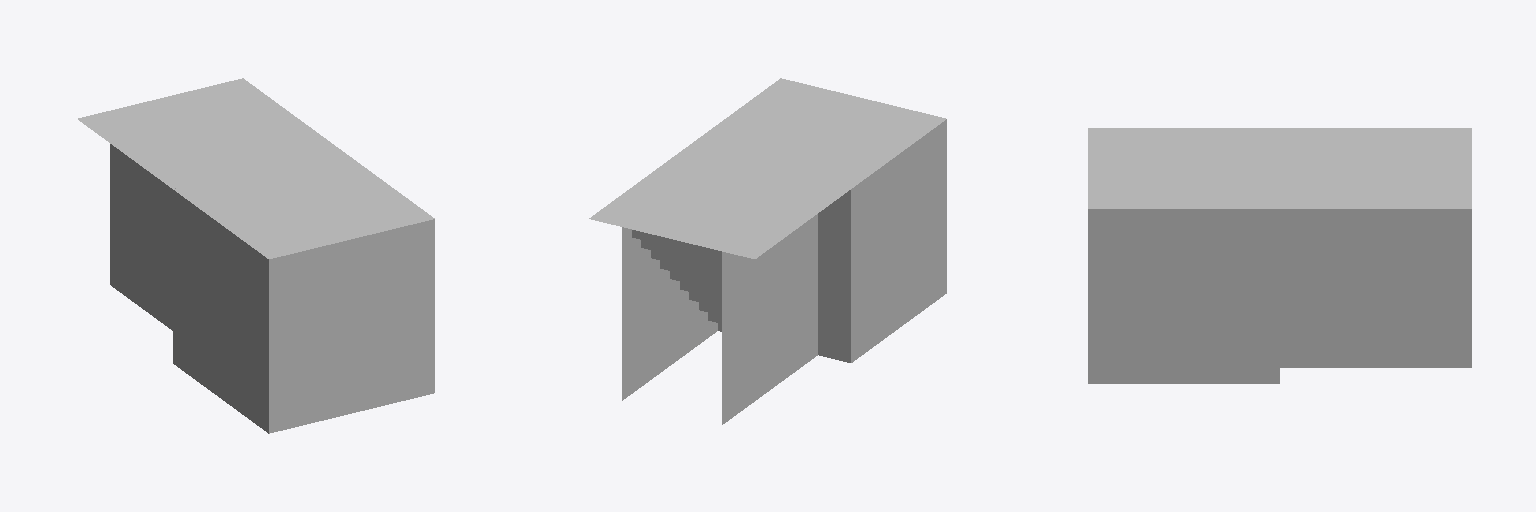
The model's file is downstairs.obj.
The picture shows the model from 3 angles: view 1: azimuth 30°, elevation 25°; view 2: azimuth 150°, elevation 25°; view 3: azimuth 270°, elevation 25°; orthographic projection.
Visible parts, largest first — view 1: Cube; view 2: Cube; view 3: Cube.
Part boxes in pixels (left/top/right/bottom): Cube: left=78, top=78, right=434, bottom=433; Cube: left=589, top=78, right=946, bottom=424; Cube: left=1088, top=128, right=1471, bottom=383.
Size of the model in its own units: 1 by 1 by 2.